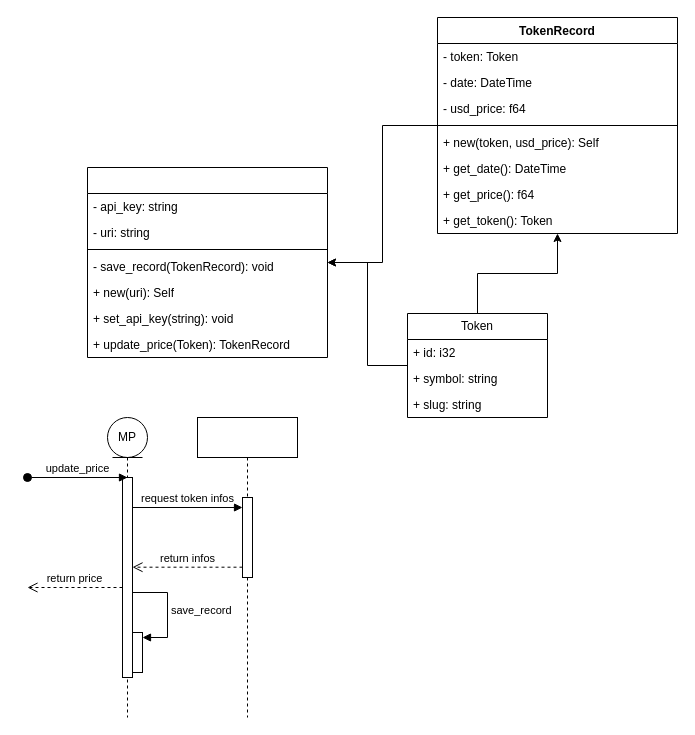
The diagram is 695 pixels wide and 735 high, and some of its shapes have lost their labels. Here are the shapes that lost their labels. From the top down, the box of each, then its label:
(86, 166, 328, 358): MarketPricer
(196, 416, 298, 718): :API CMC
